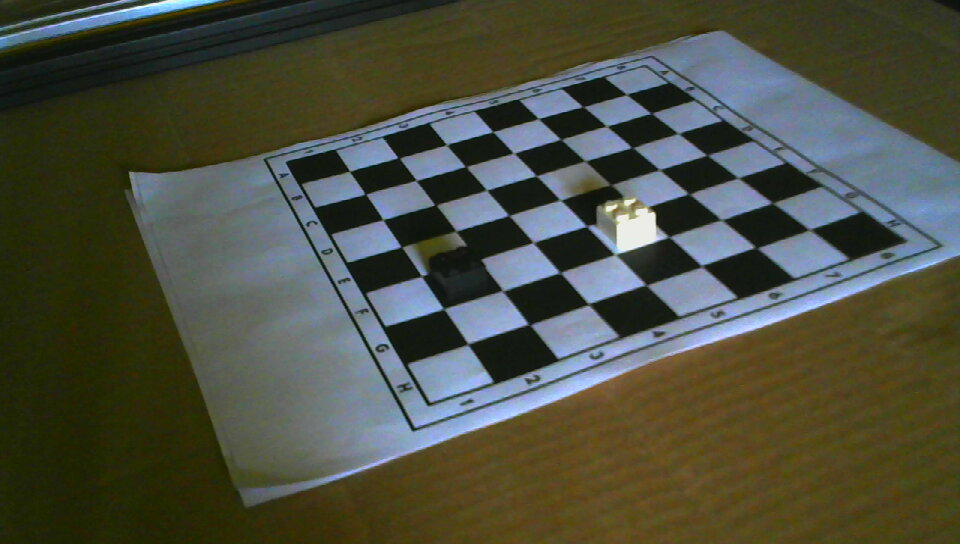bp: (429, 245, 488, 300)
wp: (598, 196, 656, 248)
